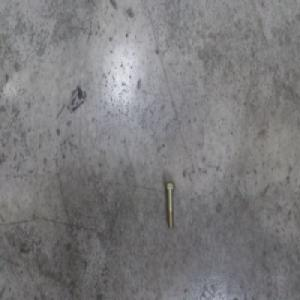Bolt: (163, 179, 175, 228)
